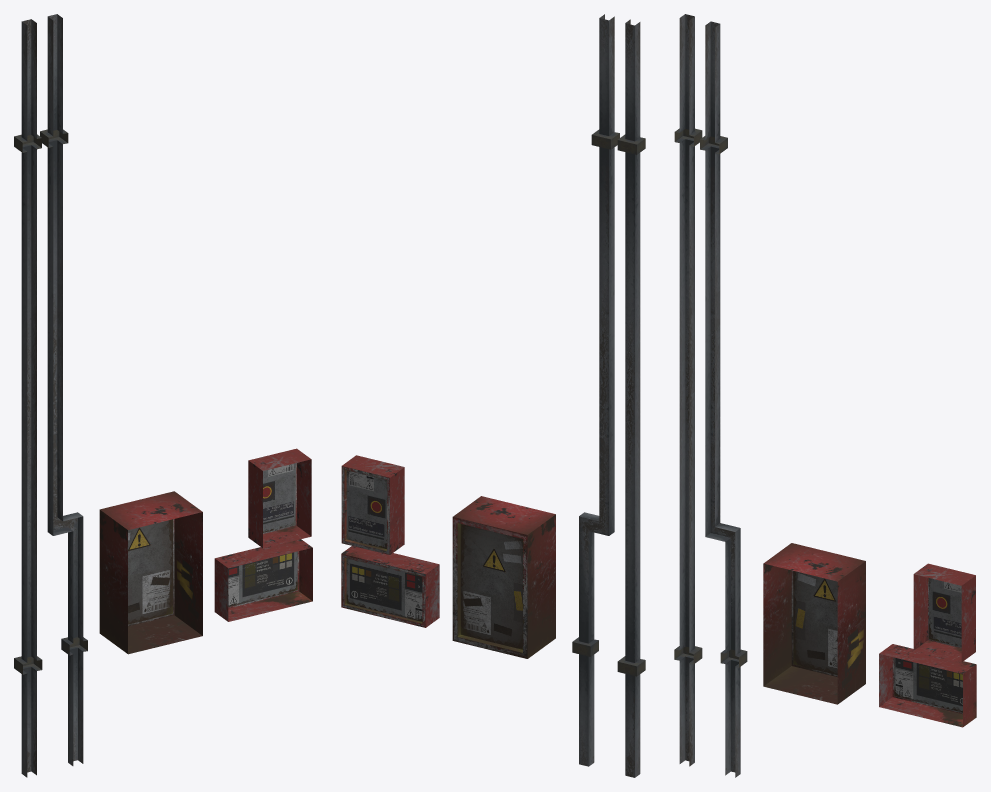
File: electricbox.obj
3 renders of one model, left to right at view 1: azimuth 30°, elevation 25°; view 2: azimuth 150°, elevation 25°; view 3: azimuth 330°, elevation 25°, orthographic.
Visible parts, largest first — view 1: electric_wall_box_01, metal_pipe_02, metal_pipe_01, electric_wall_ui_01, electric_wall_ui_02; view 2: electric_wall_box_01, metal_pipe_02, metal_pipe_01, electric_wall_ui_01, electric_wall_ui_02; view 3: electric_wall_box_01, metal_pipe_02, metal_pipe_01, electric_wall_ui_01, electric_wall_ui_02.
Part boxes in pixels (x1,y1,x2,y2): electric_wall_box_01: [99, 491, 202, 654]; metal_pipe_02: [40, 14, 87, 765]; metal_pipe_01: [14, 19, 42, 777]; electric_wall_ui_01: [214, 539, 312, 621]; electric_wall_ui_02: [248, 448, 311, 548]; electric_wall_box_01: [452, 496, 555, 658]; metal_pipe_02: [572, 14, 619, 766]; metal_pipe_01: [617, 19, 645, 777]; electric_wall_ui_01: [341, 546, 439, 627]; electric_wall_ui_02: [341, 455, 404, 554]; electric_wall_box_01: [763, 543, 865, 704]; metal_pipe_02: [700, 21, 747, 777]; metal_pipe_01: [674, 14, 702, 766]; electric_wall_ui_01: [879, 644, 976, 727]; electric_wall_ui_02: [913, 563, 975, 662].
Size of the model in its own units: 1.29 by 3.19 by 0.2183.
Materials: 1 (1 with a texture image).
